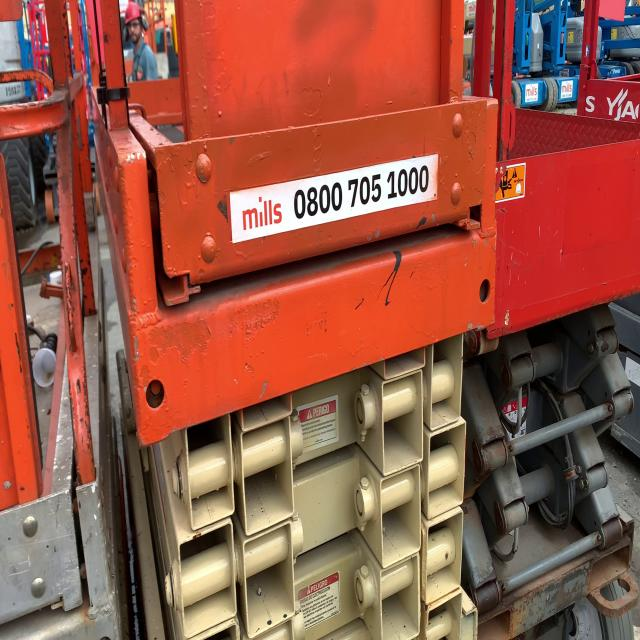Adesivo Longo: (226, 150, 440, 248)
